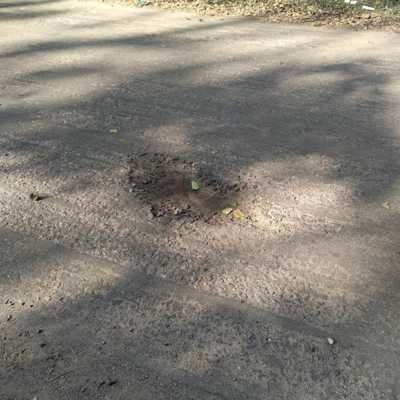pothole: (123, 150, 262, 230)
